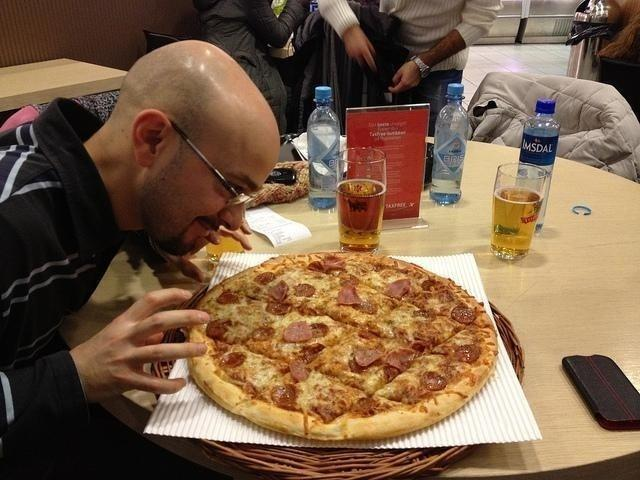bottle-plastic: (519, 98, 561, 233), (430, 83, 470, 206), (306, 86, 340, 208)
glass-normal: (489, 162, 547, 260), (336, 146, 386, 252)
